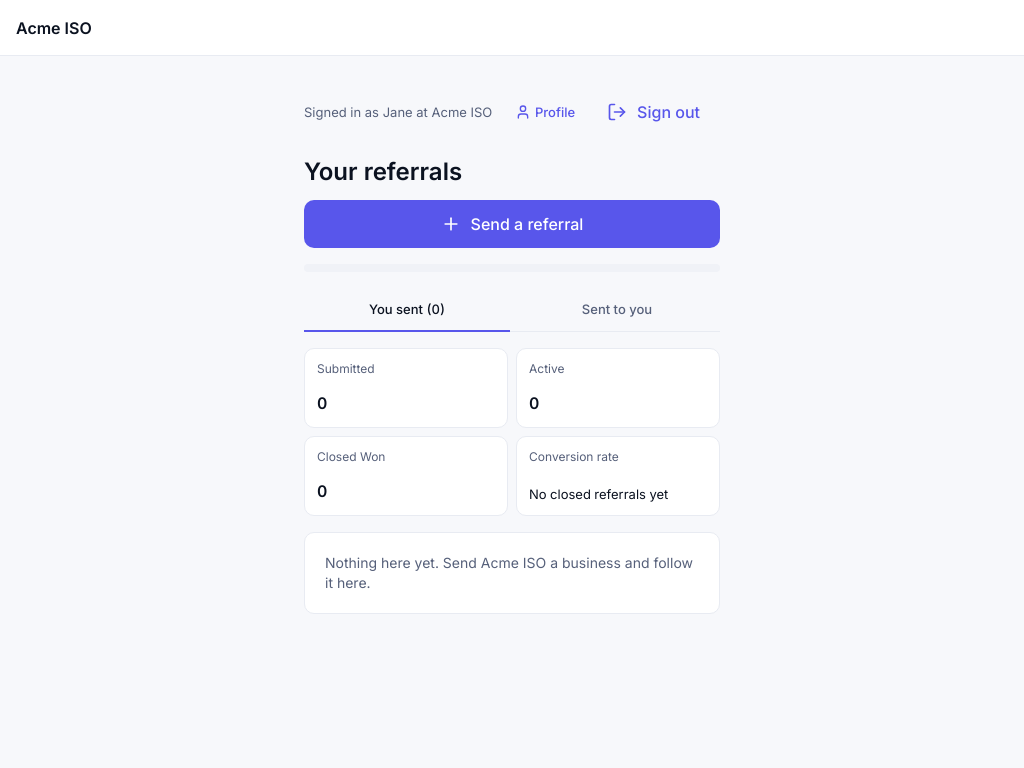
Test: PortalProfilePage › is one tap from the top bar
Click the link "Profile". click: click(545, 112)
box: [515,104,575,120]
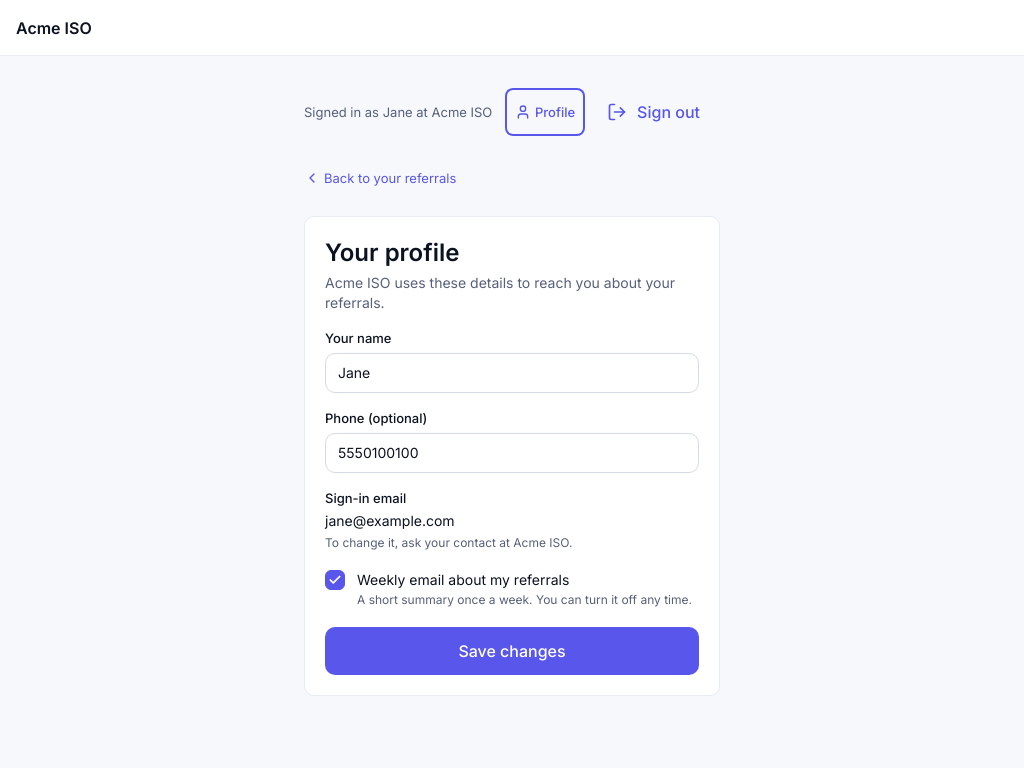
Expected: the heading "Your profile" is shown, [325,238,460,267]
